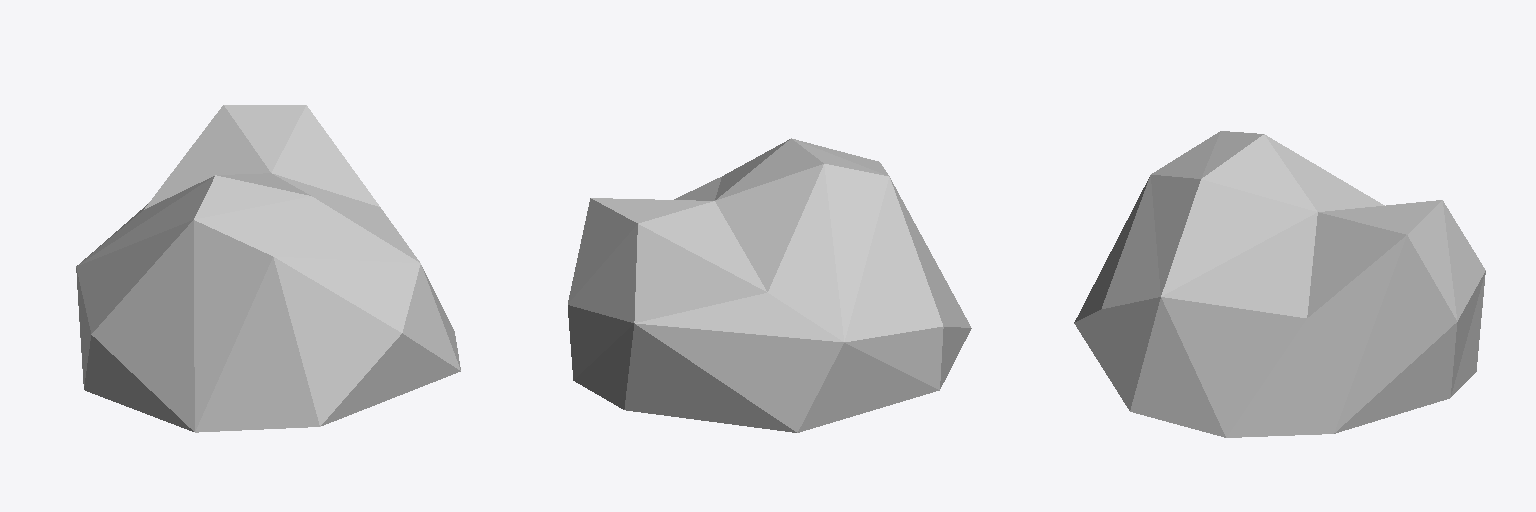
Rendered from stone12.obj.
3 renders of one model, left to right at view 1: azimuth 30°, elevation 25°; view 2: azimuth 150°, elevation 25°; view 3: azimuth 270°, elevation 25°, orthographic.
Parts seen in each view (by area): view 1: stone1_Group1; view 2: stone1_Group1; view 3: stone1_Group1.
Boxes of the visible parts, box(x1,y1,x2,y2) form: stone1_Group1: box(76, 105, 460, 432); stone1_Group1: box(568, 138, 971, 432); stone1_Group1: box(1074, 131, 1485, 437).
Bounding box in the file's own units: 2.21 × 1.21 × 2.29.